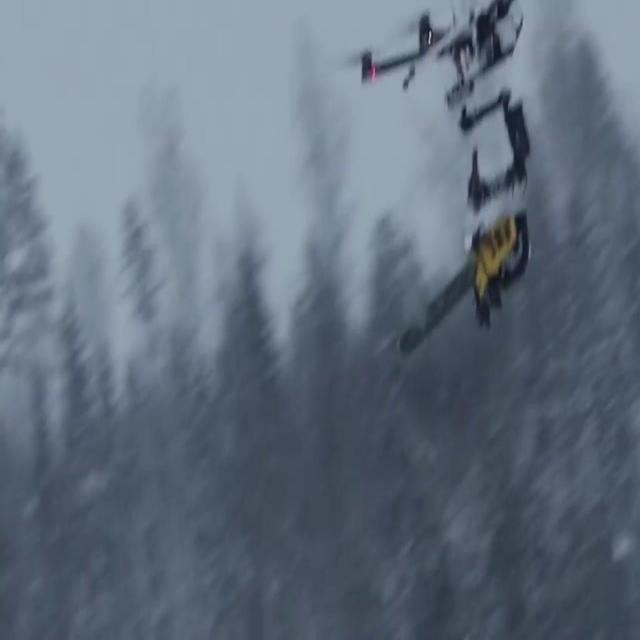UAV: (336, 0, 524, 113)
